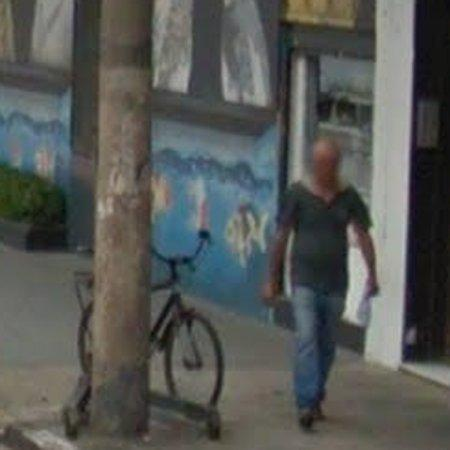bicycles: (150, 230, 225, 440), (75, 272, 94, 376)
